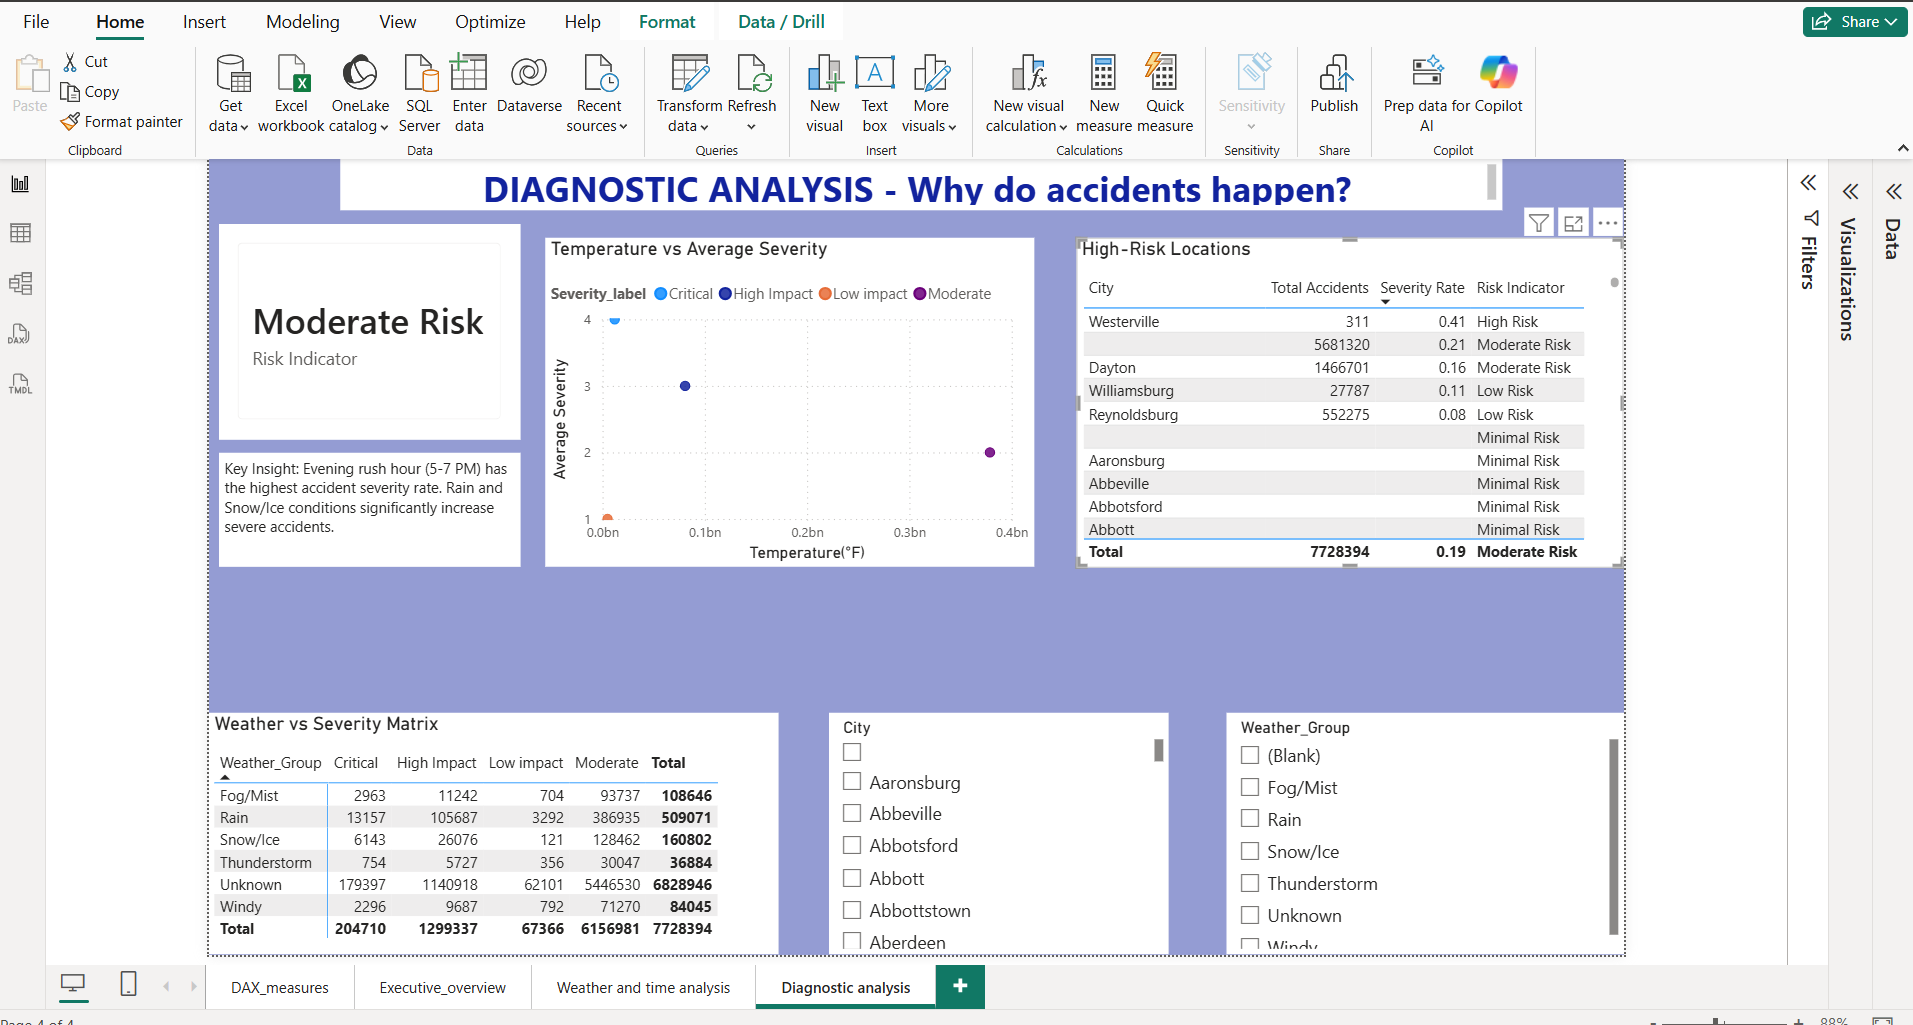

The dashboard page shown, as its layout file describes it:
{"tool":"powerbi","page":{"name":"Diagnostic analysis","canvas":[1280,720],"ordinal":3},"visuals":[{"type":"textbox","box":[118.7,0,1050.9,46.8],"z":0},{"type":"cardVisual","fields":{"Data":["US_Accidents_March23.Risk Indicator"]},"box":[9.5,58.6,272.5,194.9],"z":1000},{"type":"textbox","box":[9.5,266.2,272.5,103],"z":2000},{"type":"pivotTable","title":"Weather vs Severity Matrix","fields":{"Columns":["DimSeverity.Severity_label"],"Rows":["US_Accidents_March23.Weather_Group"],"Values":["US_Accidents_March23.Total Accidents"]},"box":[0,500.7,515,218.7],"z":3000},{"type":"scatterChart","title":"Temperature vs Average Severity","fields":{"Series":["US_Accidents_March23.Severity_label"],"X":["Sum(US_Accidents_March23.Temperature(F))"],"Y":["US_Accidents_March23.Avg Severity"]},"box":[304.2,71.3,442.1,297.9],"z":4000},{"type":"tableEx","title":"High-Risk Locations","fields":{"Values":["DimLocation.City","US_Accidents_March23.Total Accidents","US_Accidents_March23.Severity Rate","US_Accidents_March23.Risk Indicator"]},"box":[784.4,71.3,496,298],"z":5000},{"type":"slicer","fields":{"Values":["US_Accidents_March23.City"]},"box":[560.9,500.7,307.4,218.7],"z":5001},{"type":"slicer","fields":{"Values":["DimWeather.Weather_Group"]},"box":[920.6,500.7,359.7,218.7],"z":5002}]}

Visuals, with their boxes on the page's 1280x720 design canvas (x1, y1, x2, y2). These are canvas units, not pixel positions in the 1913x1025 screenshot, which may show the page scaled, cropped or inside an application window:
textbox: <bbox>119, 0, 1170, 47</bbox>
cardVisual - US_Accidents_March23.Risk Indicator: <bbox>10, 59, 282, 254</bbox>
textbox: <bbox>10, 266, 282, 369</bbox>
"Weather vs Severity Matrix" pivotTable: <bbox>0, 501, 515, 719</bbox>
"Temperature vs Average Severity" scatterChart: <bbox>304, 71, 746, 369</bbox>
"High-Risk Locations" tableEx: <bbox>784, 71, 1280, 369</bbox>
slicer - US_Accidents_March23.City: <bbox>561, 501, 868, 719</bbox>
slicer - DimWeather.Weather_Group: <bbox>921, 501, 1280, 719</bbox>
